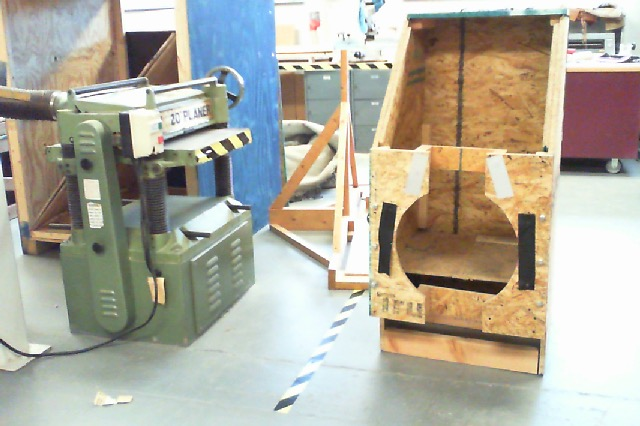Tape: (485, 154, 513, 199), (403, 150, 428, 196)
